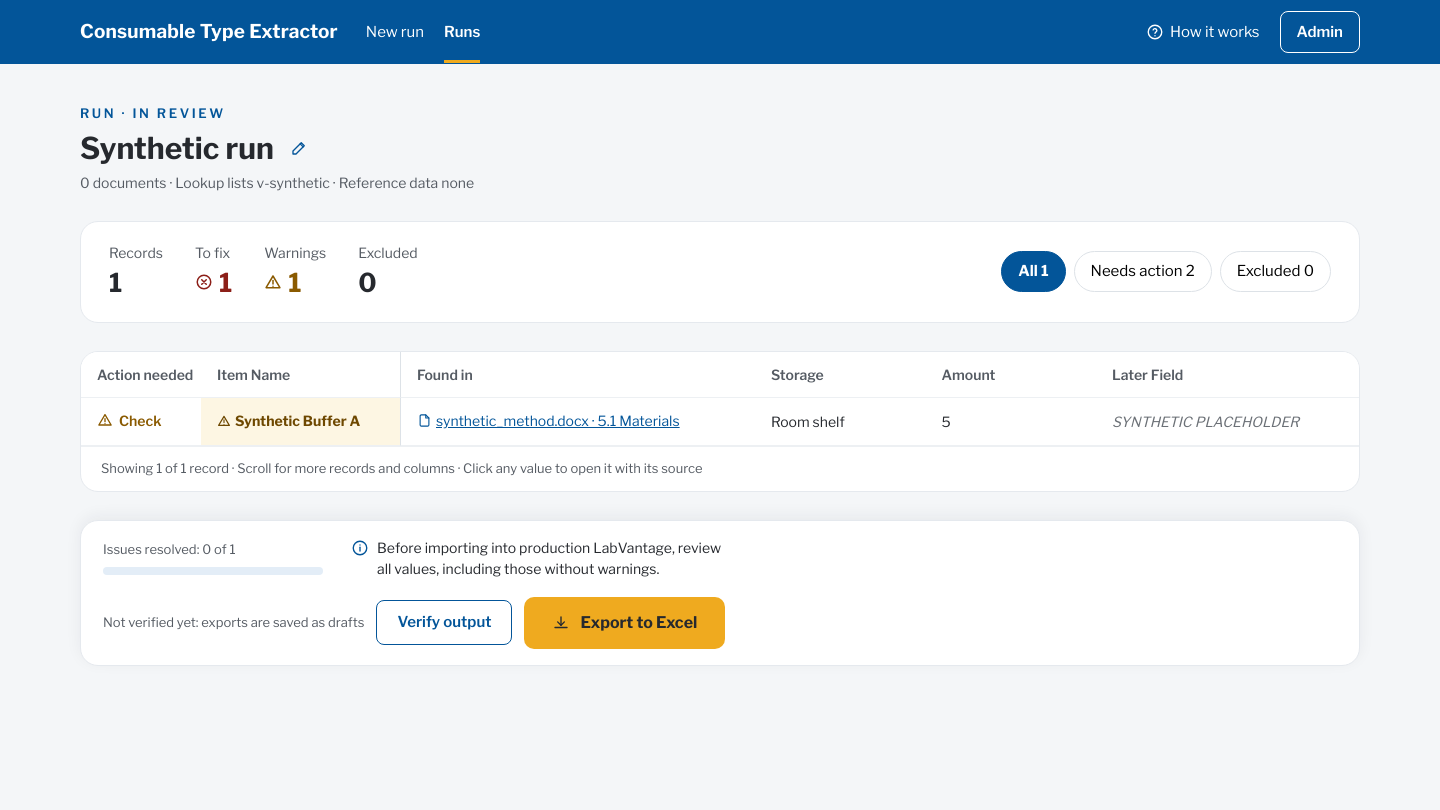
Test: Possible duplicate comparison › is not shown for an issue without existing types in its details
This screenshot has width=1440, height=810.
Click the button with aria-label "Item Name: Synthetic Buffer A" at (300, 421), box [217,410,384,432]
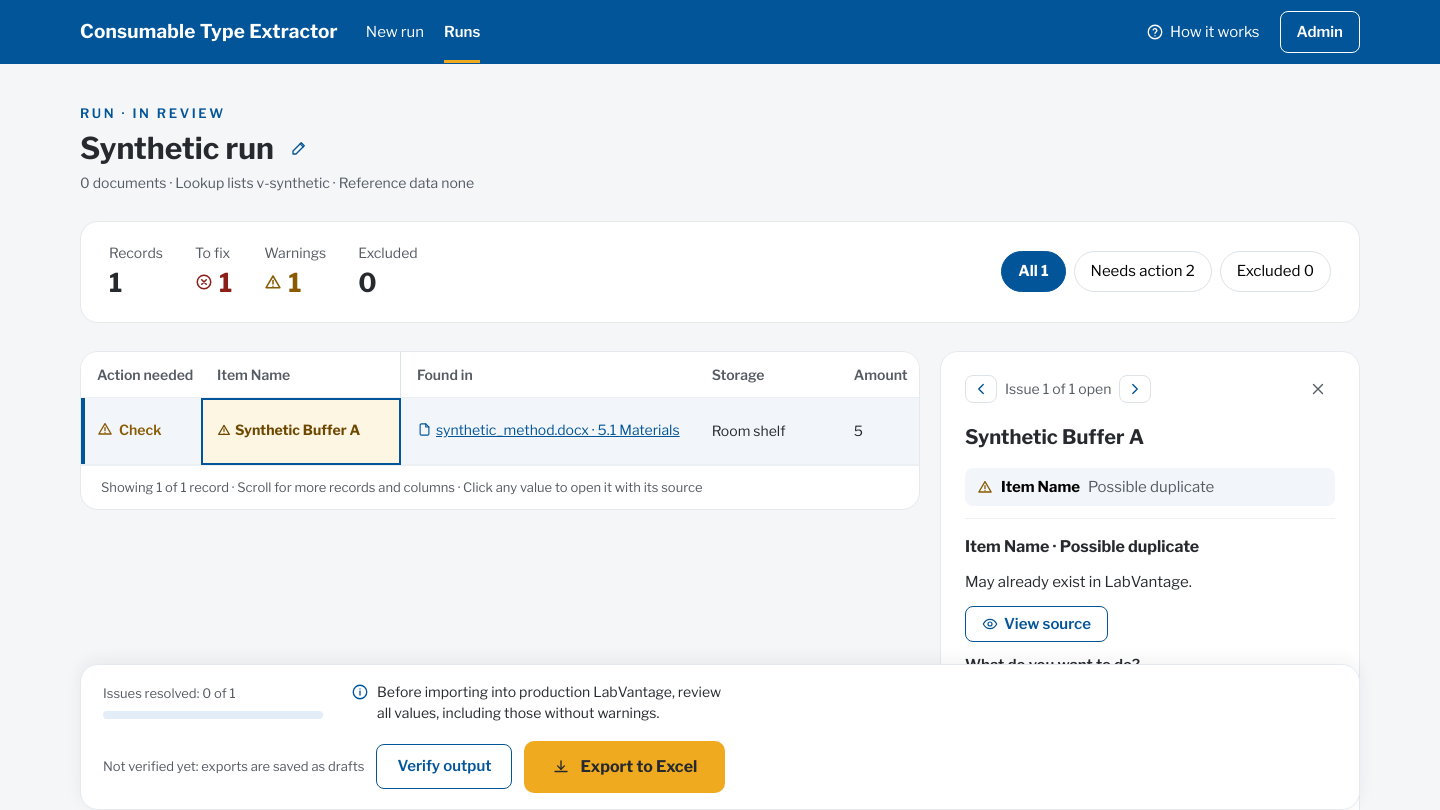
Now the text "May already exist in LabVantage." is shown, box [965,573,1192,591]
